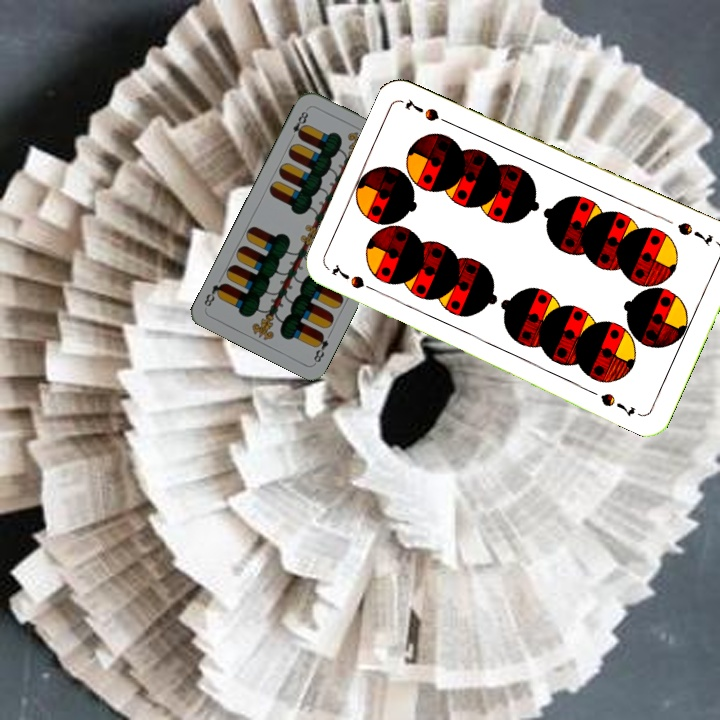E8: (288, 105, 311, 141), (309, 328, 331, 365)
S7: (327, 260, 382, 296), (673, 218, 716, 250)
